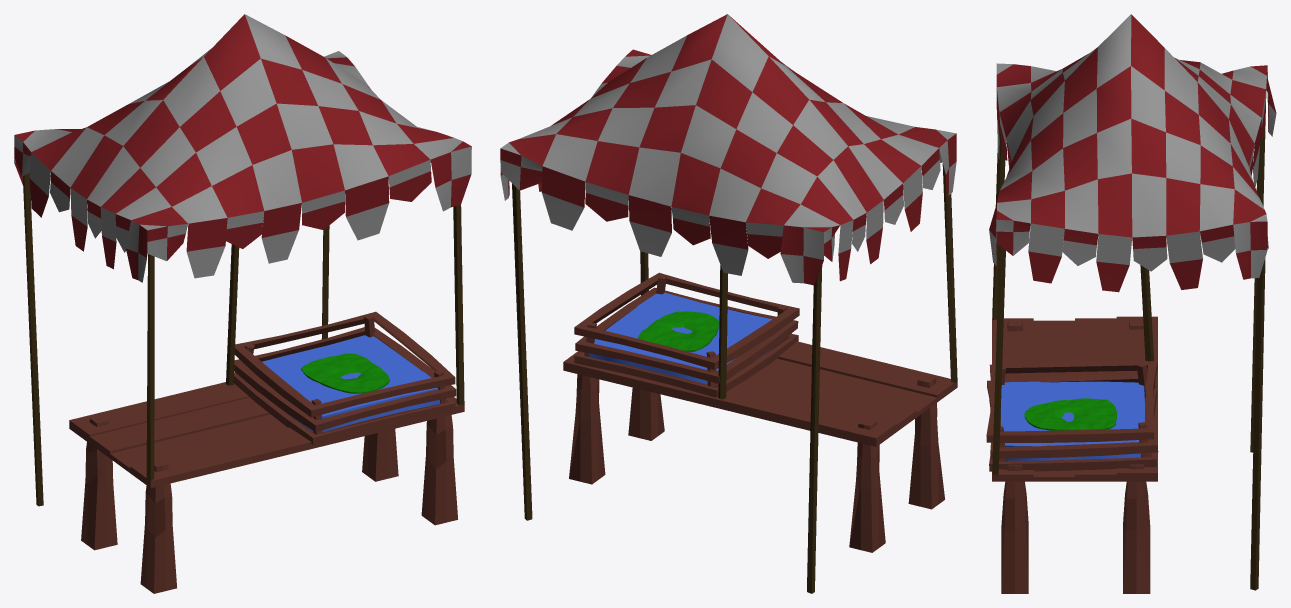
The model's file is Mini Golf Stall.fbx.
The picture shows the model from 3 angles, left to right: view 1: azimuth 30°, elevation 25°; view 2: azimuth 150°, elevation 25°; view 3: azimuth 270°, elevation 25°; orthographic projection. The views are drawn at different scales.
Visible parts, largest first — view 1: StallTentCloth, Counter, World Crate, StallTentPoles, Water, Main Area; view 2: StallTentCloth, Counter, World Crate, StallTentPoles, Water, Main Area; view 3: StallTentCloth, Counter, World Crate, StallTentPoles, Water, Main Area.
Part boxes in pixels (<box>): StallTentCloth: <box>14,14,471,282</box>; Counter: <box>69,382,464,593</box>; World Crate: <box>233,311,456,444</box>; StallTentPoles: <box>22,173,464,506</box>; Water: <box>262,335,440,432</box>; Main Area: <box>301,353,389,393</box>; StallTentCloth: <box>500,14,956,285</box>; Counter: <box>563,341,957,552</box>; World Crate: <box>574,272,799,397</box>; StallTentPoles: <box>512,151,957,593</box>; Water: <box>589,292,784,384</box>; Main Area: <box>638,311,719,351</box>; StallTentCloth: <box>989,14,1276,292</box>; Counter: <box>992,316,1157,593</box>; World Crate: <box>986,361,1158,471</box>; StallTentPoles: <box>992,89,1266,590</box>; Water: <box>1000,381,1144,461</box>; Main Area: <box>1024,398,1116,430</box>.
Size of the model in its own units: 214 by 305 by 157.
